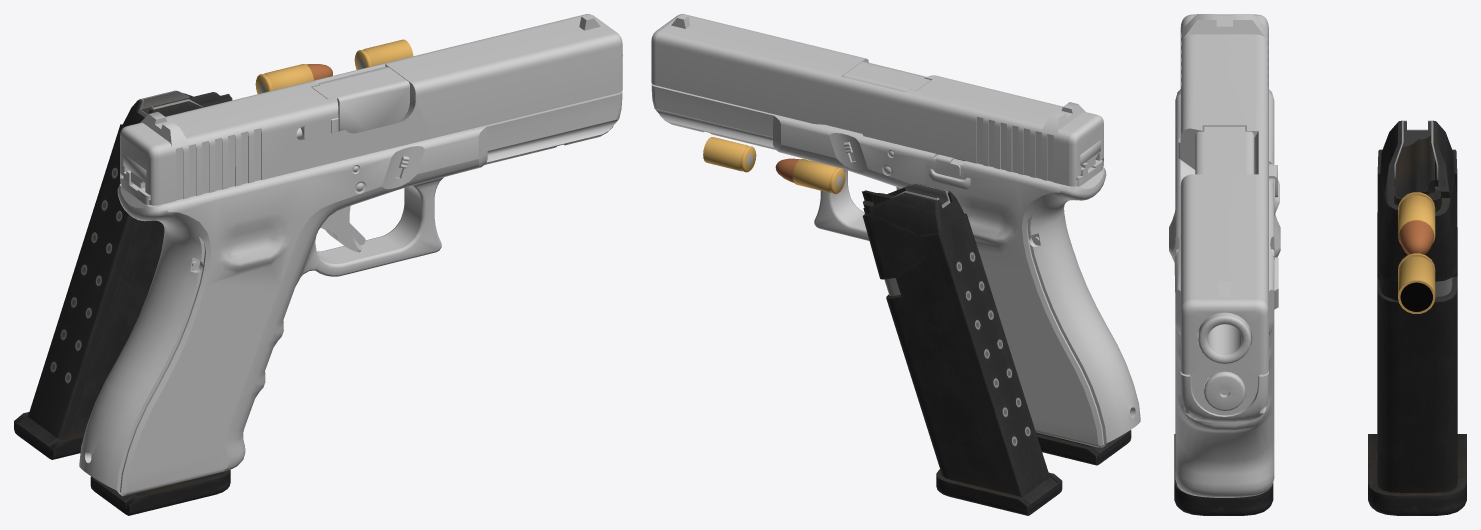
The model's file is Glock_01.obj.
3 views of the same model, side by side, from view 1: azimuth 30°, elevation 25°; view 2: azimuth 150°, elevation 25°; view 3: azimuth 270°, elevation 25° (orthographic). The views are drawn at different scales.
Visible parts, largest first — view 1: Glock_low_Mesh, Magazine_Empty_low_Mesh.003, Magazine_Full_low_Mesh.001, Bullet_low_Mesh.004, Bullet_Case_low_Mesh.005; view 2: Glock_low_Mesh, Magazine_Empty_low_Mesh.003, Bullet_low_Mesh.004, Magazine_Full_low_Mesh.001, Bullet_Case_low_Mesh.005; view 3: Glock_low_Mesh, Magazine_Empty_low_Mesh.003, Bullet_low_Mesh.004, Bullet_Case_low_Mesh.005, Magazine_Full_low_Mesh.001.
Boxes of the visible parts, box(x1,y1,x2,y2) form: Glock_low_Mesh: box(79, 14, 622, 496); Magazine_Empty_low_Mesh.003: box(14, 90, 232, 459); Magazine_Full_low_Mesh.001: box(90, 469, 230, 515); Bullet_low_Mesh.004: box(255, 64, 332, 93); Bullet_Case_low_Mesh.005: box(354, 39, 413, 69); Glock_low_Mesh: box(651, 14, 1140, 448); Magazine_Empty_low_Mesh.003: box(862, 183, 1062, 515); Bullet_low_Mesh.004: box(775, 158, 845, 193); Magazine_Full_low_Mesh.001: box(938, 154, 1131, 465); Bullet_Case_low_Mesh.005: box(703, 137, 756, 172); Glock_low_Mesh: box(1169, 14, 1280, 497); Magazine_Empty_low_Mesh.003: box(1368, 120, 1466, 515); Bullet_low_Mesh.004: box(1398, 192, 1435, 254); Bullet_Case_low_Mesh.005: box(1398, 253, 1435, 313); Magazine_Full_low_Mesh.001: box(1174, 434, 1273, 515).
Size of the model in its own units: 0.2021 by 0.135 by 0.078.
